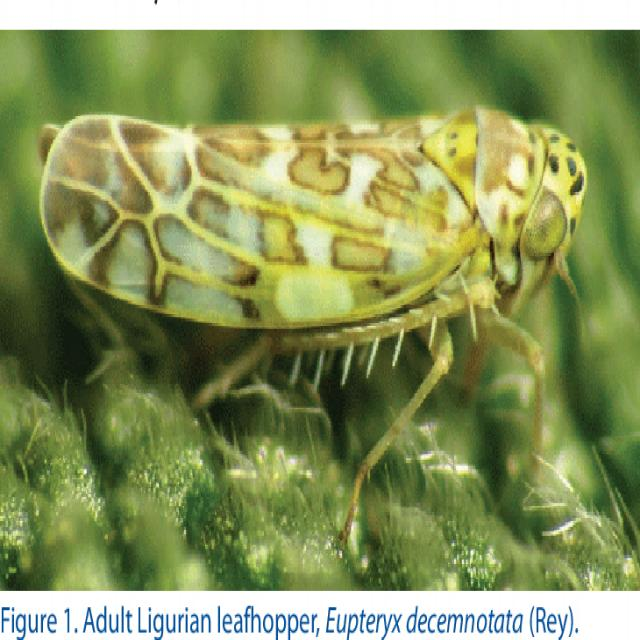Yechan: (27, 100, 616, 400)
